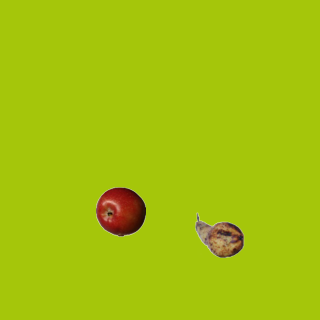Apple Braeburn: (95, 186, 145, 236)
Pear Abate: (194, 210, 244, 260)
